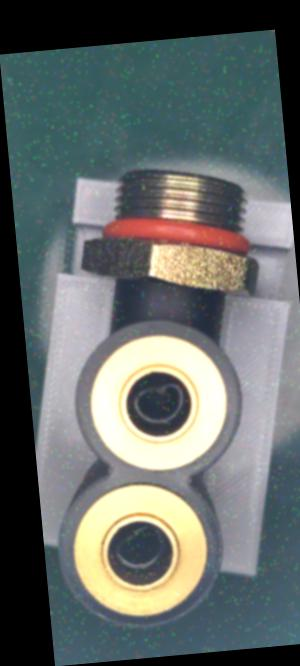off-centered: (108, 515, 176, 578), (126, 374, 188, 435)
